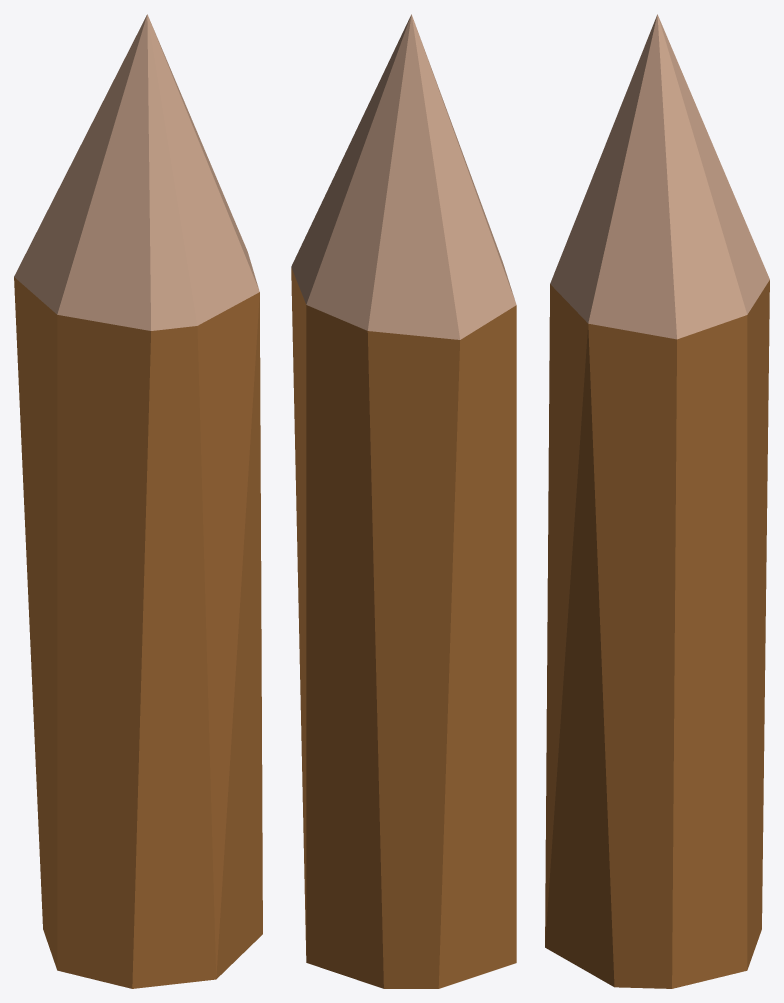
3 renders of one model, left to right at view 1: azimuth 30°, elevation 25°; view 2: azimuth 150°, elevation 25°; view 3: azimuth 270°, elevation 25°, orthographic.
Parts seen in each view (by area): view 1: ZL_01; view 2: ZL_01; view 3: ZL_01.
Part boxes in pixels (box(x1,y1,x2,y2)): ZL_01: box(14, 14, 262, 988); ZL_01: box(291, 14, 516, 988); ZL_01: box(545, 14, 769, 988).
Size of the model in its own units: 0.185 by 0.7899 by 0.1737.
